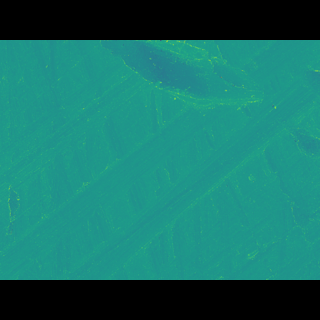Loch: (0, 70, 320, 249), (94, 68, 268, 125), (270, 88, 320, 161), (0, 174, 31, 218)
